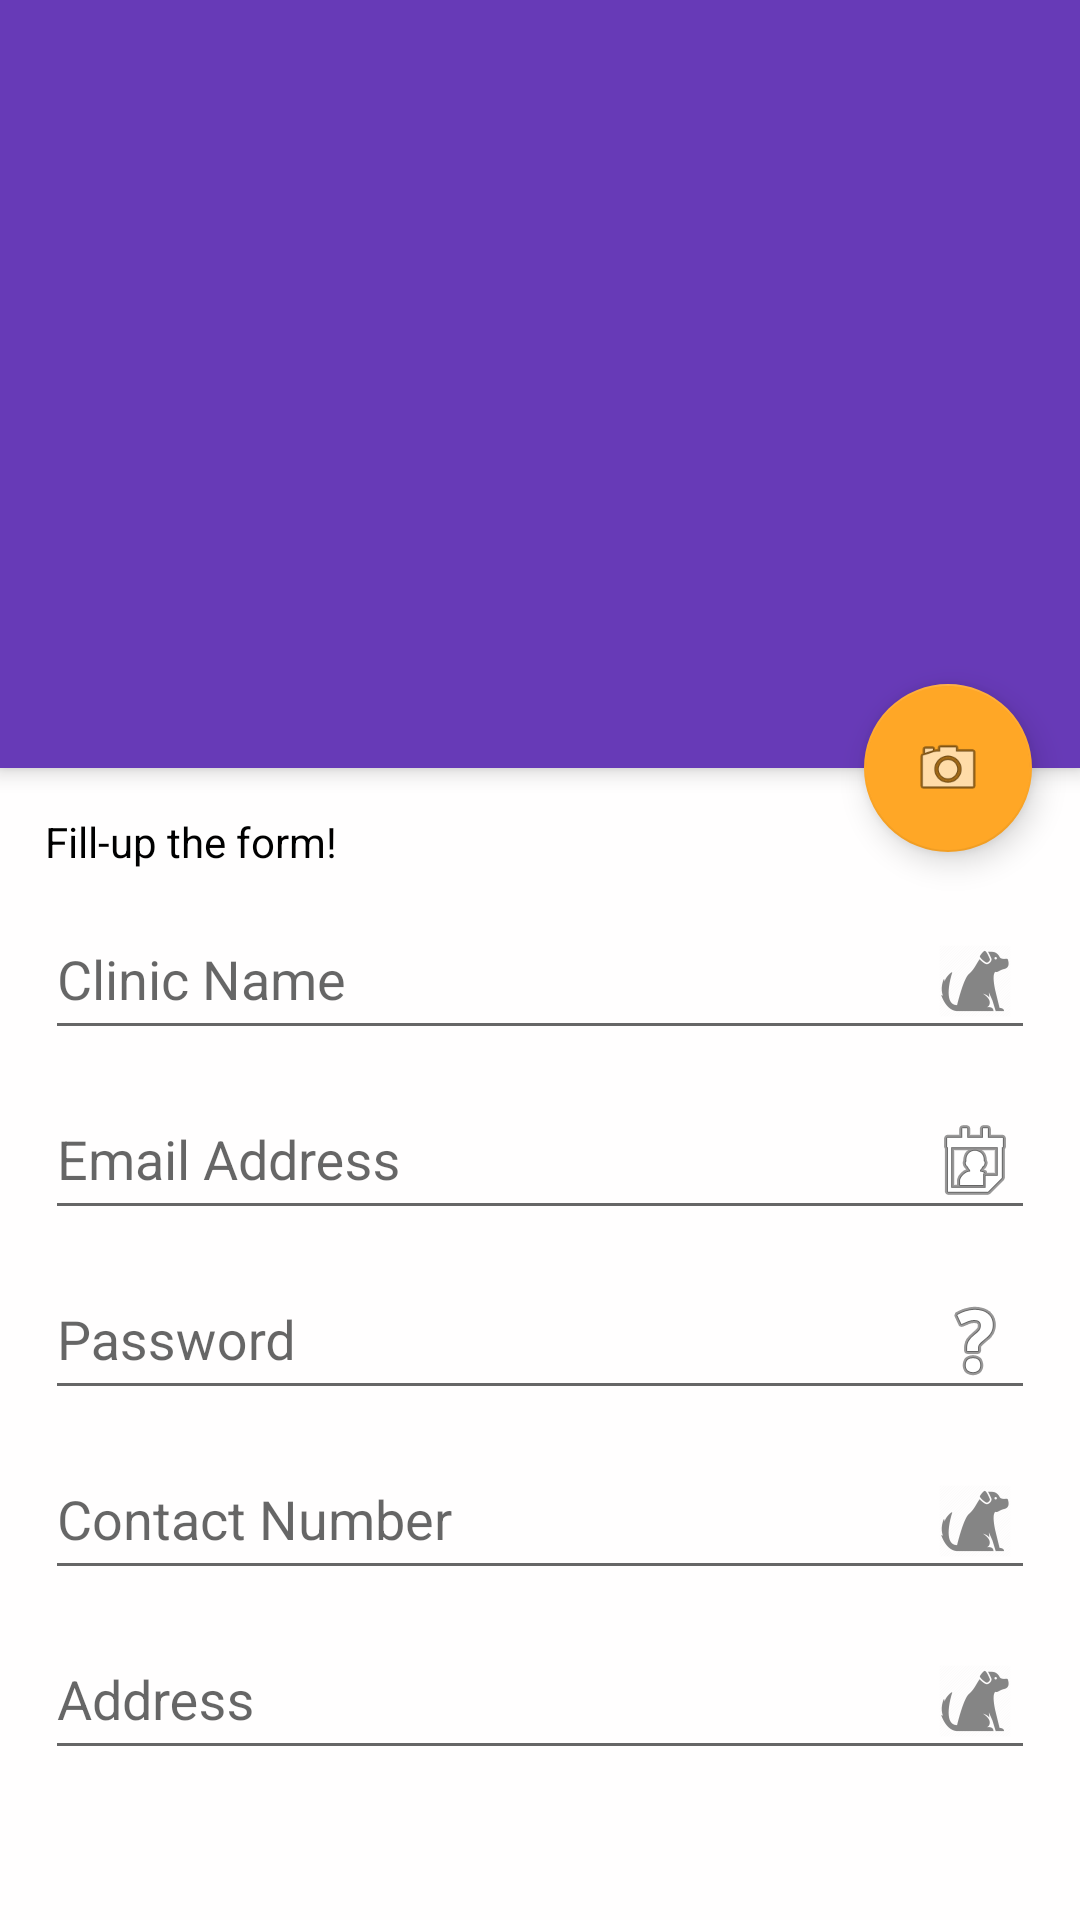

Icons on this 1080×1920 Android screen, each with the point to tap as (x=x, y=y):
camera: (x=948, y=768)
